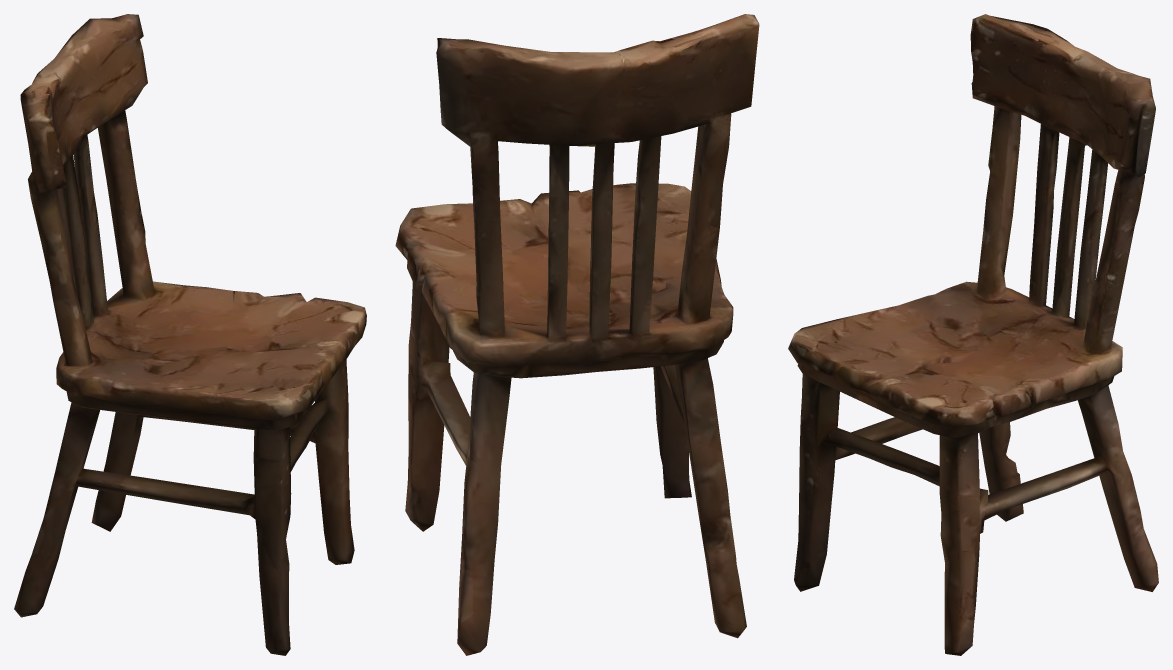
File: e_chair.glb
3 views of the same model, side by side, from view 1: azimuth 30°, elevation 25°; view 2: azimuth 150°, elevation 25°; view 3: azimuth 270°, elevation 25° (orthographic). The views are drawn at different scales.
Parts seen in each view (by area): view 1: tripo_node_3e89be92-c23a-4296-9516-d3808289ef3f; view 2: tripo_node_3e89be92-c23a-4296-9516-d3808289ef3f; view 3: tripo_node_3e89be92-c23a-4296-9516-d3808289ef3f.
Part boxes in pixels (box(x1,y1,x2,y2)): tripo_node_3e89be92-c23a-4296-9516-d3808289ef3f: box(14, 14, 366, 655); tripo_node_3e89be92-c23a-4296-9516-d3808289ef3f: box(395, 14, 759, 655); tripo_node_3e89be92-c23a-4296-9516-d3808289ef3f: box(788, 14, 1158, 655).
Size of the model in its own units: 0.6441 by 1 by 0.6644.
1 material, 1 textured.
